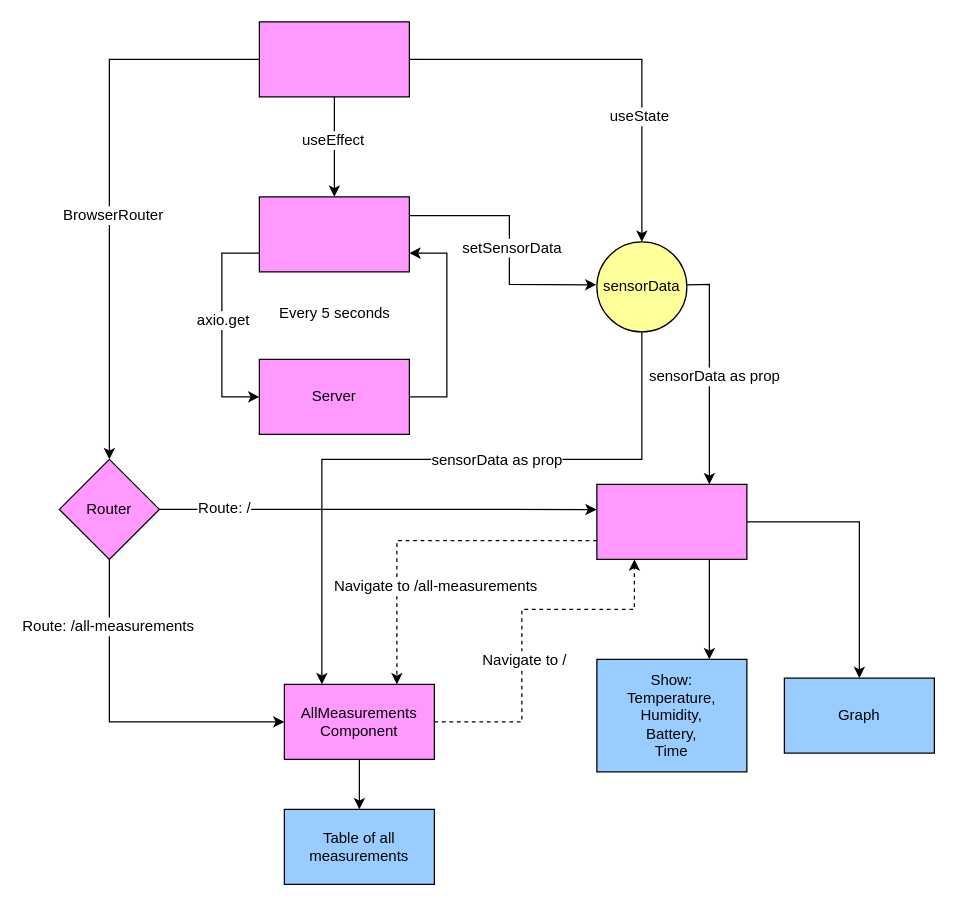
This 956x906 diagram has some shape labels left out. Each missing label, with the box of its shape:
App.js: (258, 21, 409, 97)
Fetch Sensor Data: (258, 196, 409, 272)
LastMeasurement Component: (596, 483, 747, 559)
